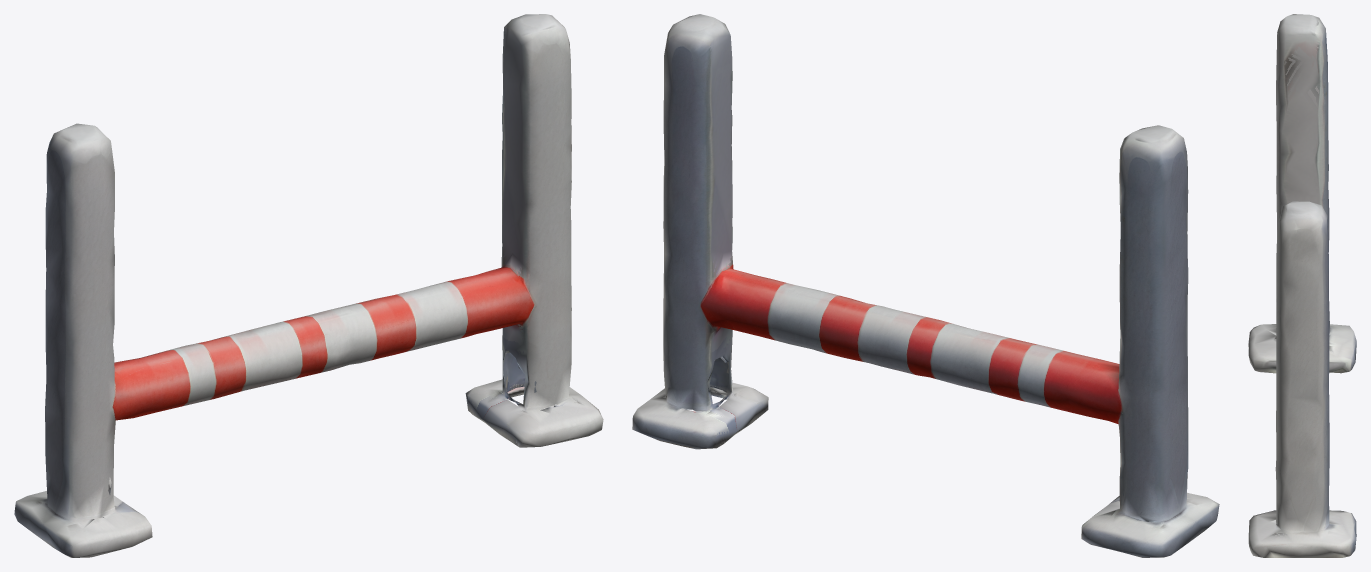
File: P_ShowHurdle_h50.fbx
The picture shows the model from 3 angles, left to right: view 1: azimuth 30°, elevation 25°; view 2: azimuth 150°, elevation 25°; view 3: azimuth 270°, elevation 25°; orthographic projection. The views are drawn at different scales.
Visible parts, largest first — view 1: texture_mapping; view 2: texture_mapping; view 3: texture_mapping.
Part boxes in pixels (x1=…): texture_mapping: x1=14, y1=14, x2=603, y2=557; texture_mapping: x1=632, y1=14, x2=1219, y2=557; texture_mapping: x1=1248, y1=14, x2=1356, y2=557.
Bounding box in the file's own units: 0.9998 × 0.2074 × 0.7106.
Materials: 1 (1 with a texture image).
